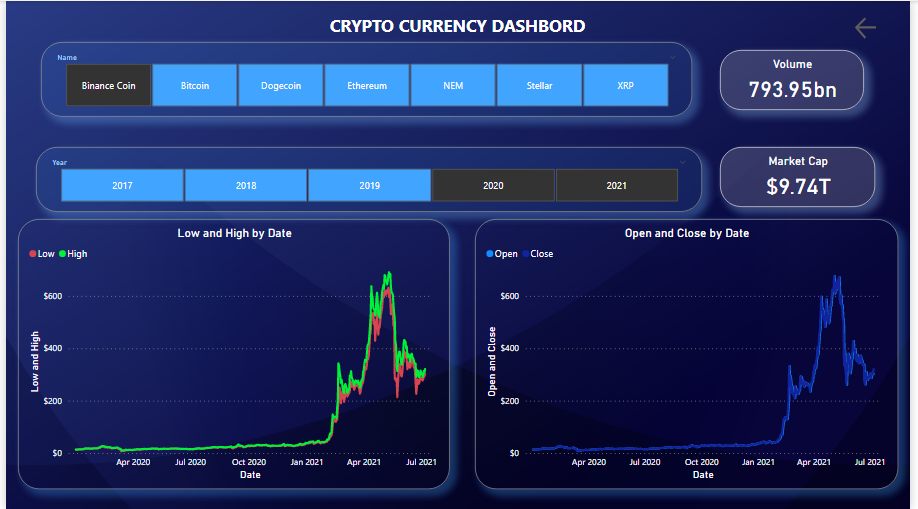

What the dashboard file says about the page in this screenshot:
{"tool":"powerbi","page":{"name":"Page 2","canvas":[1280,720],"ordinal":1},"visuals":[{"type":"slicer","fields":{"Values":["CryptoData.Name"]},"box":[49.6,58.1,922.7,106.3],"z":0},{"type":"slicer","fields":{"Values":["CryptoData.Year"]},"box":[42.5,206.9,943.9,92.1],"z":1000},{"type":"lineChart","fields":{"Y":["Sum(CryptoData.Low)","Sum(CryptoData.High)"],"Category":["CryptoData.Date"]},"box":[17,309,612.3,382.7],"z":2000},{"type":"actionButton","box":[1199.1,18.4,80.8,39.7],"z":3000},{"type":"textbox","box":[391.2,12.8,497.5,51],"z":4000},{"type":"card","title":"Volume","fields":{"Values":["Sum(CryptoData.Volume)"]},"box":[1012,69.4,204.1,85],"z":5000},{"type":"card","title":"Market Cap","fields":{"Values":["Sum(CryptoData.Marketcap)"]},"box":[1012,206.9,219.7,85],"z":6000},{"type":"lineChart","fields":{"Y":["Sum(CryptoData.Open)","Sum(CryptoData.Close)"],"Category":["CryptoData.Date"]},"box":[664.7,309,599.5,382.7],"z":7000}]}

Visuals, with their boxes in screenshot pixels (x1, y1, x2, y2), scaled from the page's 1280x720 canvas onto the 918x509 screenshot:
slicer - CryptoData.Name: l=36, t=41, r=697, b=116
slicer - CryptoData.Year: l=30, t=146, r=707, b=211
lineChart - Sum(CryptoData.Low) x Sum(CryptoData.High): l=12, t=218, r=451, b=489
actionButton: l=860, t=13, r=917, b=41
textbox: l=281, t=9, r=637, b=45
"Volume" card: l=726, t=49, r=872, b=109
"Market Cap" card: l=726, t=146, r=883, b=206
lineChart - Sum(CryptoData.Open) x Sum(CryptoData.Close): l=477, t=218, r=907, b=489
